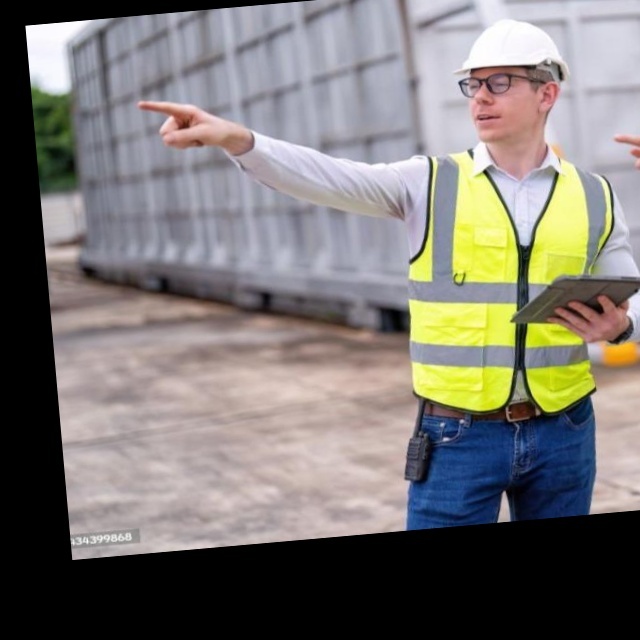Con_Casco: (449, 14, 575, 149)
Con_Chaleco: (399, 139, 627, 421)
